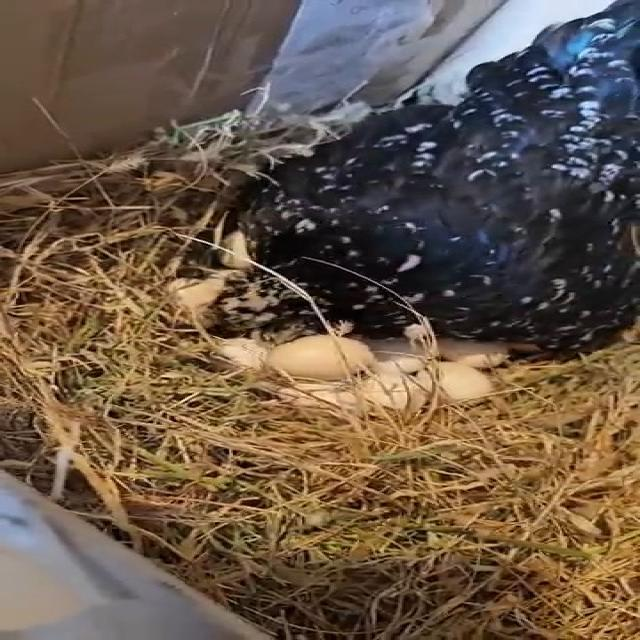crouch chicken: (234, 2, 640, 390)
